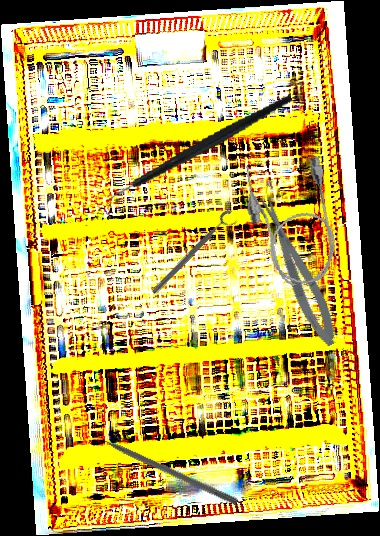Cannula: (238, 149, 346, 292)
Chopper: (93, 92, 306, 215)
Fixation Ring: (148, 206, 242, 302)
Micro Scissor: (254, 190, 344, 351)
Pusher: (84, 427, 240, 506)
